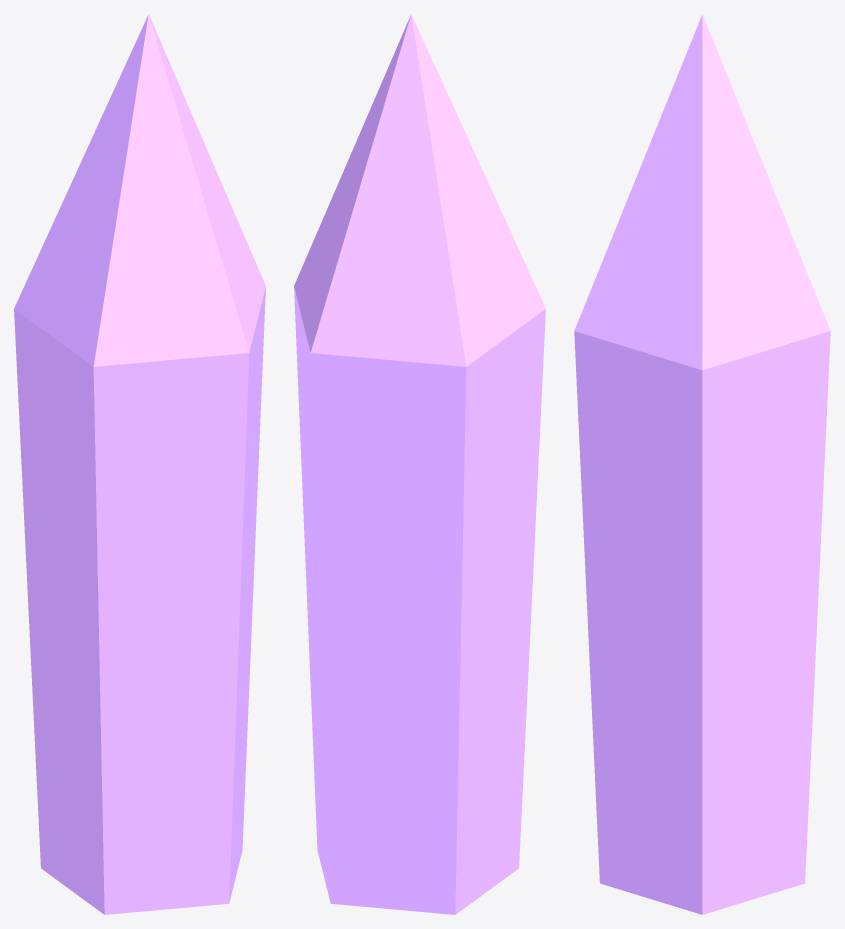
The model's file is Kit_VoidRift_Tree_LOD0.glb.
The picture shows the model from 3 angles, left to right: view 1: azimuth 30°, elevation 25°; view 2: azimuth 150°, elevation 25°; view 3: azimuth 270°, elevation 25°; orthographic projection.
Visible parts, largest first — view 1: Kit_VoidRift_Tree_LOD0_VoidRift_accent_-1_0; view 2: Kit_VoidRift_Tree_LOD0_VoidRift_accent_-1_0; view 3: Kit_VoidRift_Tree_LOD0_VoidRift_accent_-1_0.
Boxes of the visible parts, box(x1,y1,x2,y2) form: Kit_VoidRift_Tree_LOD0_VoidRift_accent_-1_0: box(14, 14, 265, 914); Kit_VoidRift_Tree_LOD0_VoidRift_accent_-1_0: box(294, 14, 545, 914); Kit_VoidRift_Tree_LOD0_VoidRift_accent_-1_0: box(574, 14, 830, 914).
Size of the model in its own units: 5.43 by 21 by 5.71.
